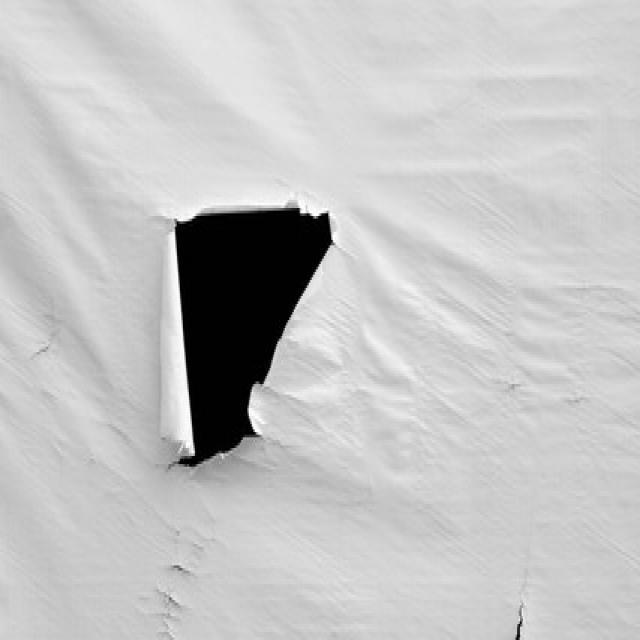Hole: (177, 208, 332, 466), (24, 328, 70, 365), (515, 591, 529, 639), (160, 592, 183, 617), (171, 565, 193, 580), (176, 221, 191, 240)
